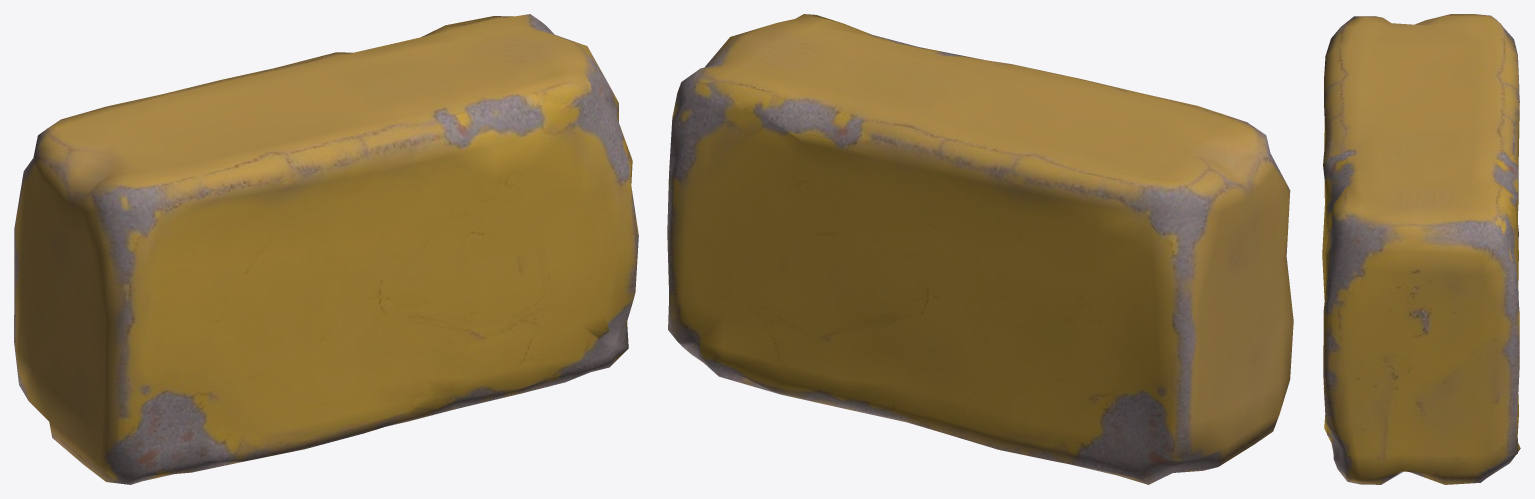
Rendered from RoadCurbYellowdecay.fbx.
3 views of the same model, side by side, from view 1: azimuth 30°, elevation 25°; view 2: azimuth 150°, elevation 25°; view 3: azimuth 270°, elevation 25° (orthographic). The views are drawn at different scales.
Parts seen in each view (by area): view 1: tripo_node_92e6b9e1; view 2: tripo_node_92e6b9e1; view 3: tripo_node_92e6b9e1.
Part boxes in pixels (left/top/right/bottom): tripo_node_92e6b9e1: left=14, top=14, right=638, bottom=484; tripo_node_92e6b9e1: left=667, top=14, right=1293, bottom=484; tripo_node_92e6b9e1: left=1322, top=14, right=1520, bottom=484.
Size of the model in its own units: 97.44 by 53.27 by 36.33.
Materials: 1 (1 with a texture image).
